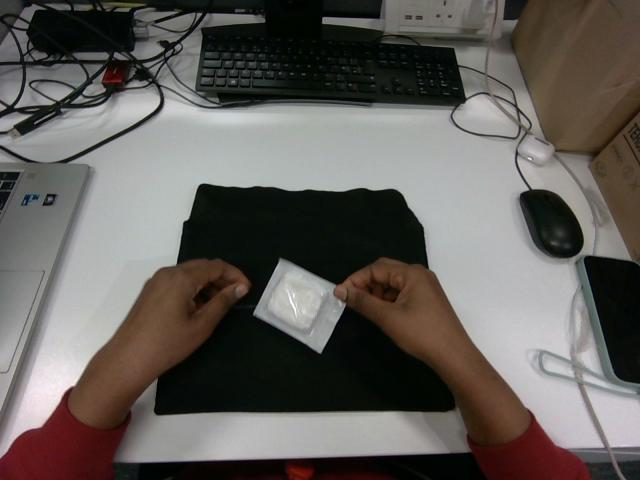gauze: (254, 259, 344, 352)
